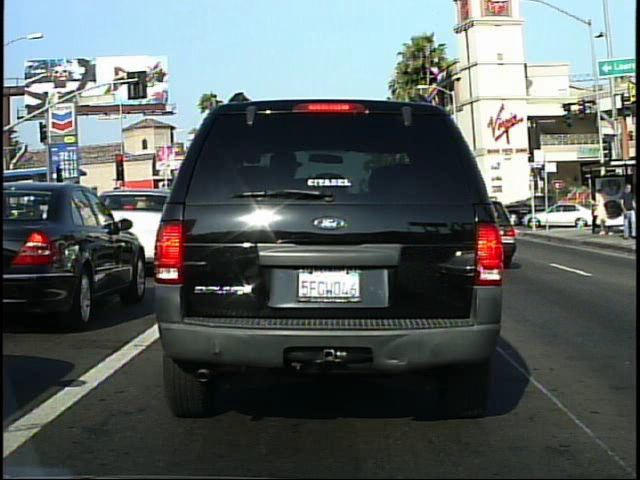person: (618, 179, 635, 243), (592, 183, 611, 240), (523, 201, 536, 227)
